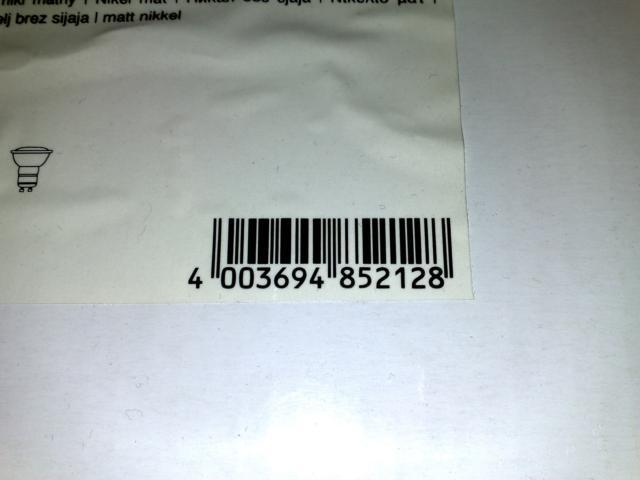Barcode: (176, 206, 468, 297)
